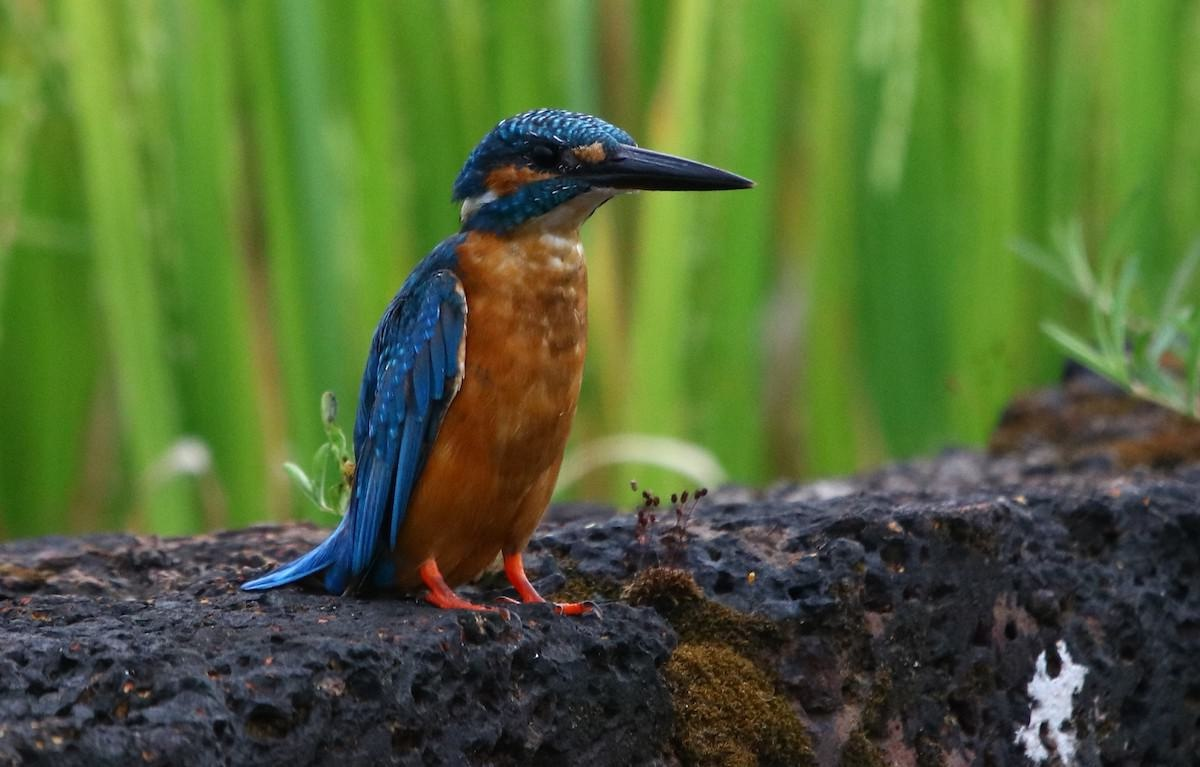kingfisher: (304, 98, 771, 614)
